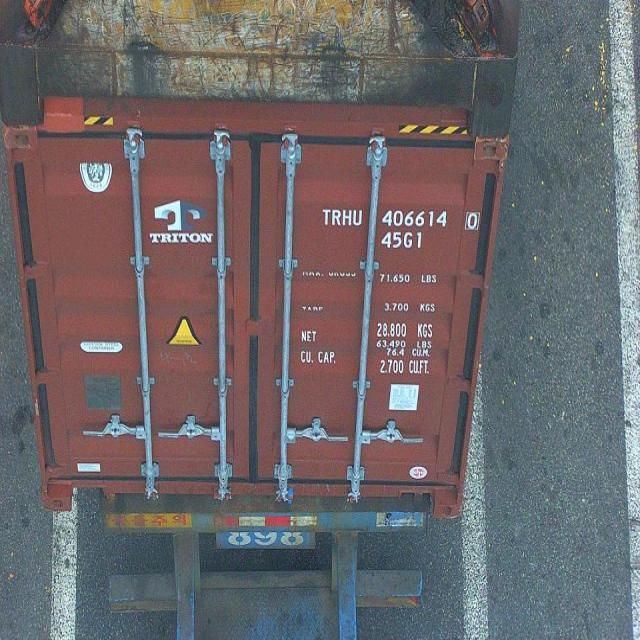ISO: (383, 231, 423, 250)
container_number: (324, 207, 480, 229)
